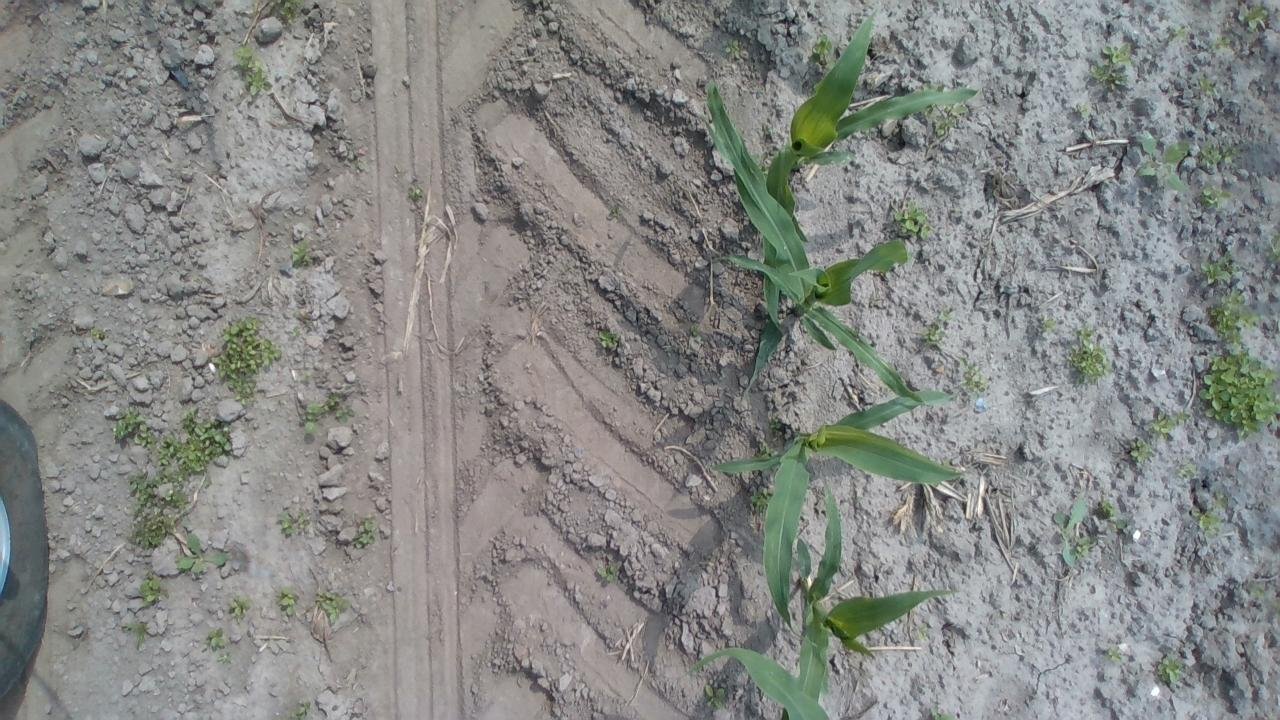Maize: (697, 80, 927, 406), (764, 8, 980, 334), (711, 390, 953, 645), (780, 468, 960, 720), (680, 647, 829, 720)
Weeds: (110, 404, 232, 548), (1195, 351, 1280, 442), (213, 312, 284, 408), (1064, 314, 1115, 388), (1208, 284, 1260, 352), (1130, 134, 1190, 192), (1052, 498, 1095, 567), (297, 387, 360, 434), (172, 534, 228, 580), (1090, 40, 1134, 88), (230, 46, 268, 96), (892, 200, 932, 241), (920, 301, 954, 349), (1148, 405, 1194, 440), (314, 589, 354, 627), (1200, 137, 1242, 169), (1200, 250, 1237, 286), (935, 105, 971, 138), (1189, 507, 1225, 540), (139, 571, 170, 609), (350, 512, 380, 551), (273, 508, 314, 536), (1155, 649, 1185, 687), (1238, 3, 1273, 32), (120, 620, 150, 650), (275, 585, 300, 620), (1196, 184, 1232, 208), (270, 0, 303, 26), (960, 364, 986, 396), (343, 142, 367, 174), (201, 625, 227, 654), (1128, 437, 1158, 461), (228, 594, 252, 622), (704, 682, 729, 708), (1174, 456, 1198, 481), (810, 33, 836, 56), (1266, 225, 1280, 267), (1096, 493, 1118, 519), (290, 241, 312, 266), (1038, 314, 1060, 338), (598, 329, 622, 350), (750, 488, 770, 512), (928, 704, 957, 720), (288, 701, 312, 720), (595, 564, 619, 583), (1168, 22, 1190, 42), (1074, 534, 1092, 558), (1211, 36, 1231, 56), (1196, 78, 1216, 98), (1212, 488, 1229, 510), (723, 40, 741, 60), (1106, 646, 1124, 664), (914, 622, 930, 642), (1074, 100, 1092, 117), (406, 187, 424, 204), (1108, 518, 1129, 532), (956, 352, 974, 368), (1250, 580, 1266, 598), (606, 204, 621, 222), (921, 82, 948, 92), (217, 650, 233, 665), (92, 326, 106, 342), (690, 323, 701, 340), (770, 418, 782, 431), (291, 325, 300, 339), (300, 374, 310, 384)
